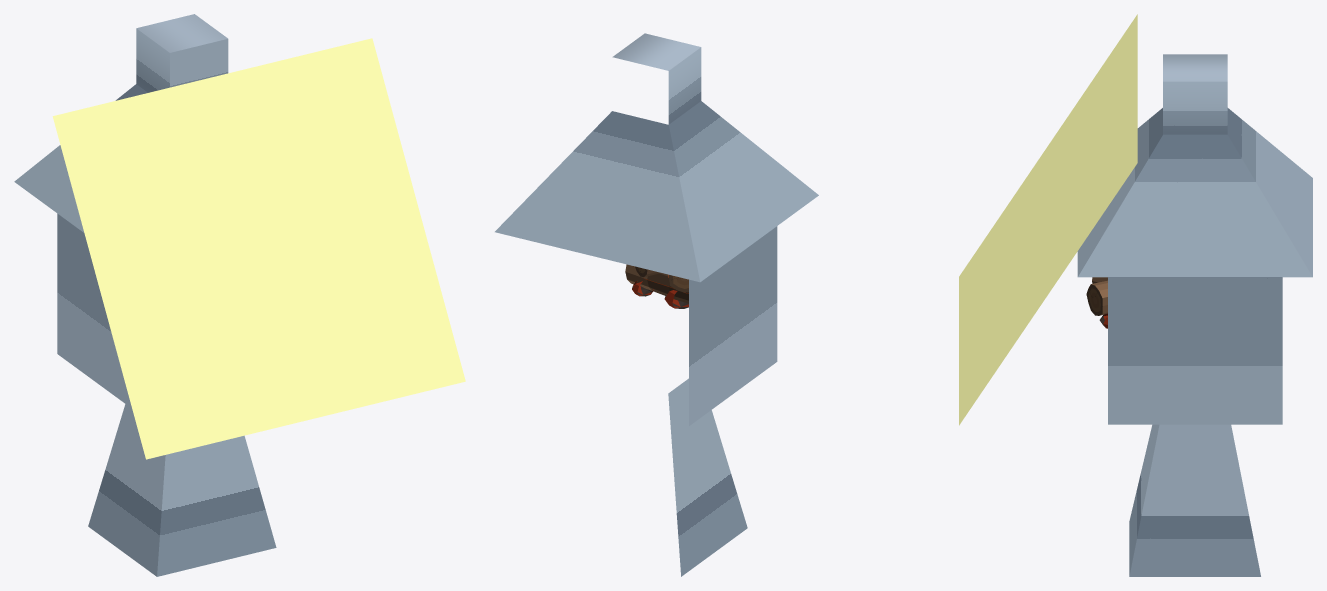
Rendered from avelune-lanterne-pierre-bois.glb.
The picture shows the model from 3 angles, left to right: view 1: azimuth 30°, elevation 25°; view 2: azimuth 150°, elevation 25°; view 3: azimuth 270°, elevation 25°; orthographic projection. The views are drawn at different scales.
Visible parts, largest first — view 1: kk_tourou; view 2: kk_tourou, foyer-bois; view 3: kk_tourou, foyer-bois.
Part boxes in pixels (x1,y1,x2,y2): kk_tourou: (14,14,465,576); kk_tourou: (495,33,818,576); foyer-bois: (625,264,688,308); kk_tourou: (959,14,1312,576); foyer-bois: (1086,277,1107,328).
Size of the model in its own units: 1.27 by 1.92 by 1.28.
Materials: 5 (5 with a texture image).
